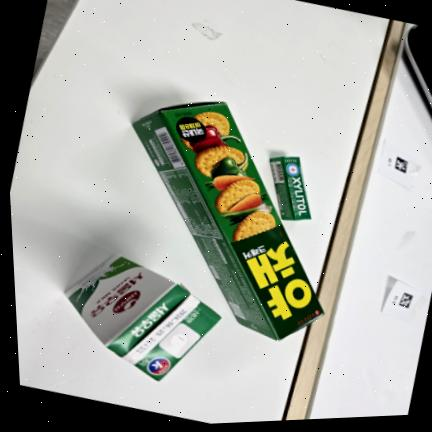cracker_vege: (133, 102, 324, 340)
gum_green: (269, 156, 310, 220)
milk_green: (64, 255, 220, 380)
